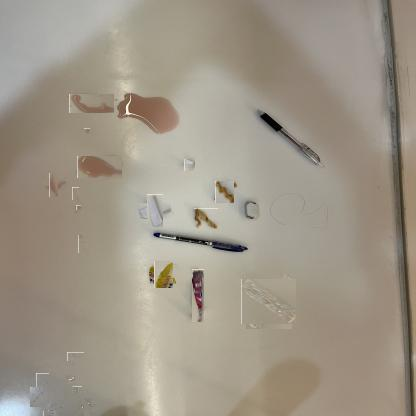dirty: (244, 276, 294, 327), (192, 269, 204, 322), (143, 199, 168, 223), (152, 263, 175, 286), (194, 208, 218, 229), (215, 182, 235, 203), (184, 159, 195, 171)
liquid: (116, 94, 180, 134), (77, 156, 122, 178), (69, 93, 114, 113), (30, 387, 46, 407), (46, 177, 62, 194), (36, 373, 50, 388), (80, 401, 94, 415), (69, 350, 82, 363), (78, 235, 87, 253), (72, 187, 79, 200), (43, 410, 56, 416), (72, 386, 82, 393), (67, 376, 75, 384), (49, 404, 63, 408), (76, 212, 80, 224), (85, 128, 90, 134), (76, 205, 81, 210)
